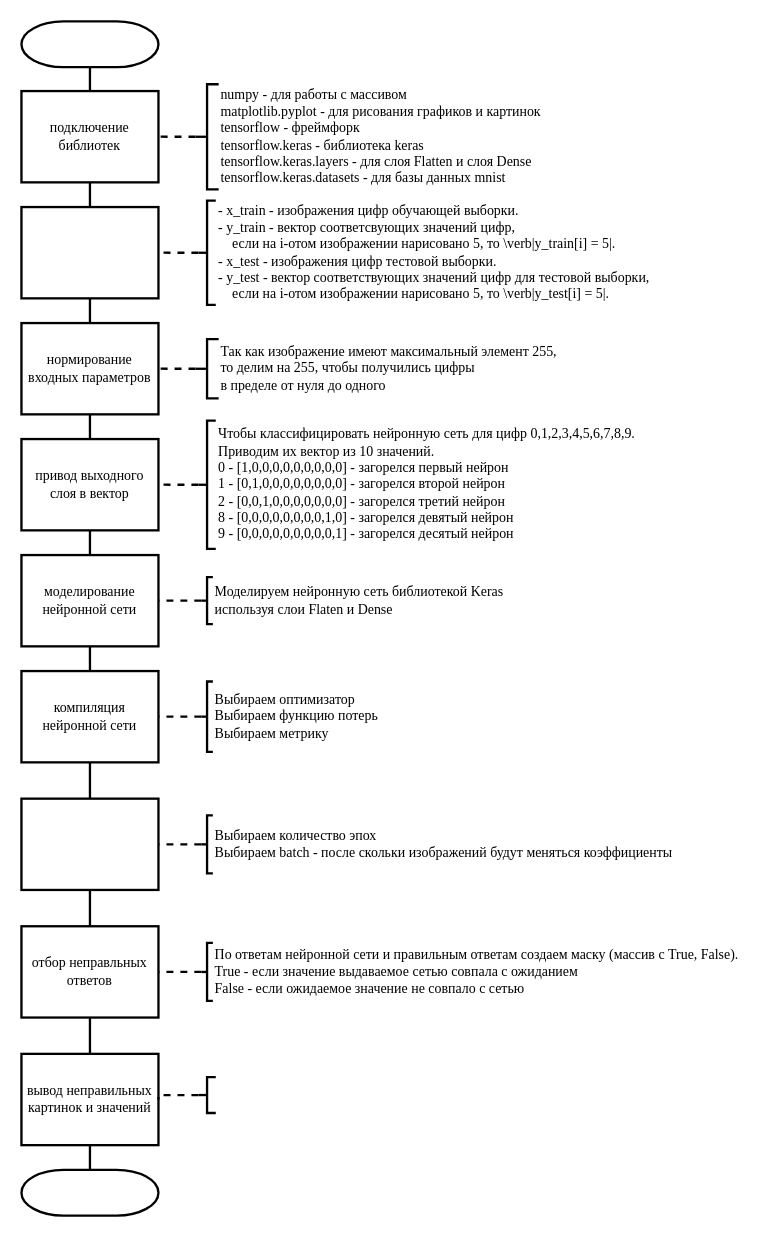
This 757x1237 diagram has some shape labels left out. Here are the shapes that lost their labels. From the top down, the centre of each, then its label:
[89,44]: Начало
[89,252]: загрузка изображений c БД MNIST
[89,844]: обучение нейронной сети
[206,1094]: Выводим картинки и в их заголовок не правильное указанное число
[89,1192]: Конец
